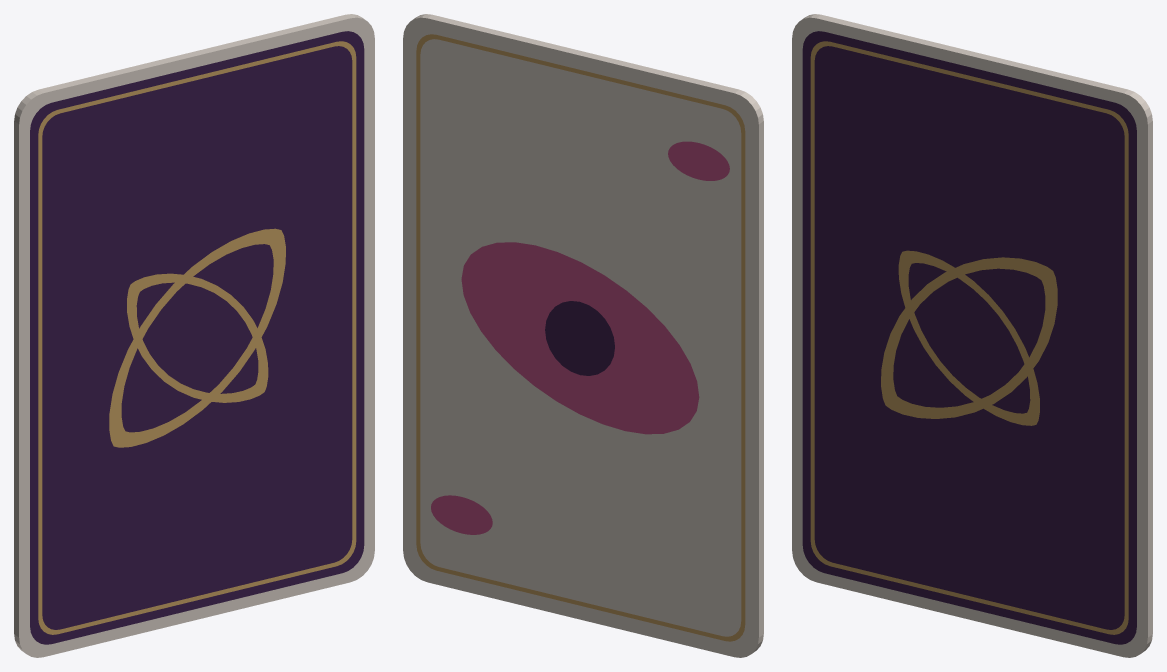
The model's file is card-orbit.glb.
3 views of the same model, side by side, from view 1: azimuth 30°, elevation 25°; view 2: azimuth 150°, elevation 25°; view 3: azimuth 330°, elevation 25° (orthographic).
Visible parts, largest first — view 1: card_orbit; view 2: card_orbit; view 3: card_orbit.
Part boxes in pixels (left/top/right/bottom): card_orbit: left=14, top=14, right=374, bottom=657; card_orbit: left=403, top=14, right=763, bottom=657; card_orbit: left=792, top=14, right=1152, bottom=657.
Size of the model in its own units: 0.66 by 1 by 0.021.
